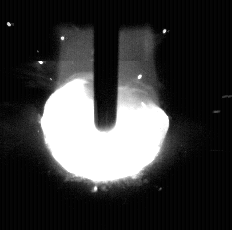arame: (95, 0, 119, 131)
poca: (41, 0, 170, 230)
